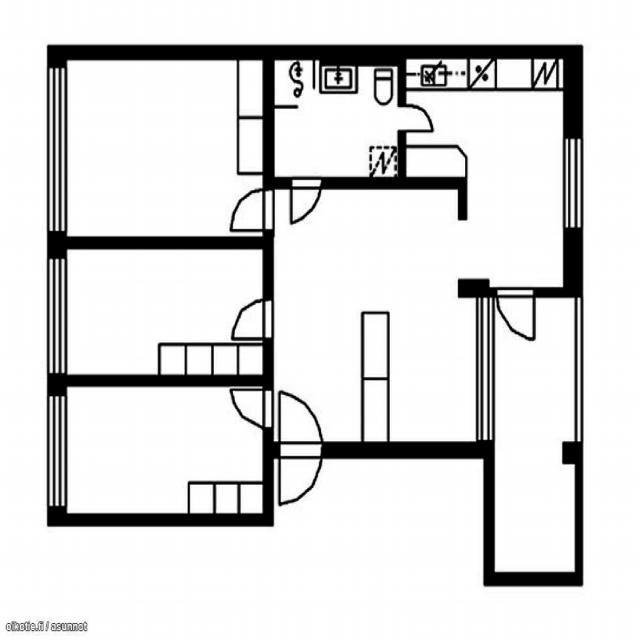door: (280, 442, 323, 510), (280, 390, 323, 457), (497, 287, 534, 343), (230, 190, 274, 230), (232, 298, 274, 338), (232, 390, 274, 427), (291, 178, 321, 225)
